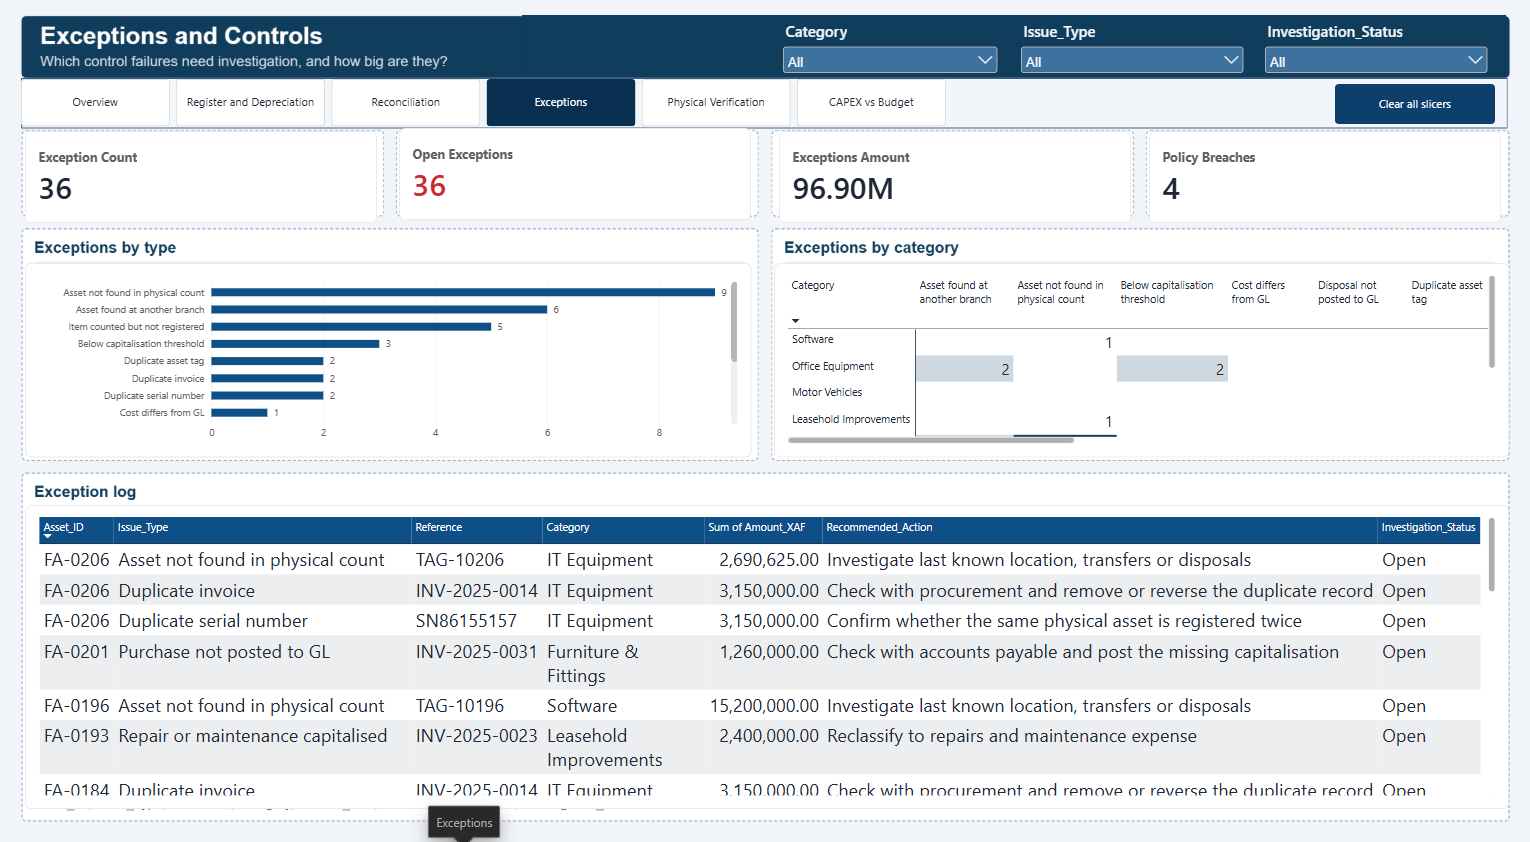

The page's visual inventory and layout, read from the dashboard file:
{"tool":"powerbi","page":{"name":"Exceptions","canvas":[1920,1080],"ordinal":3},"visuals":[{"type":"shape","box":[656.7,20,1230,76.7],"z":0},{"type":"shape","box":[30,98.3,1858.3,63],"z":1000},{"type":"cardVisual","fields":{"Data":["DAX Measures.Exception Count"]},"box":[35,165,440,115],"z":2000},{"type":"cardVisual","fields":{"Data":["DAX Measures.Open Exceptions"]},"box":[502.9,161.4,440,115],"z":3000},{"type":"cardVisual","fields":{"Data":["Sum(qExceptions_All.Amount_XAF)"]},"box":[977.5,165,440,115],"z":4000},{"type":"cardVisual","fields":{"Data":["DAX Measures.Policy Breaches"]},"box":[1440,165,440,115],"z":5000},{"type":"barChart","fields":{"Category":["qExceptions_All.Issue_Type"],"Y":["DAX Measures.Exception Count"]},"box":[35,330,907.5,242.5],"z":6000},{"type":"pivotTable","fields":{"Columns":["qExceptions_All.Issue_Type"],"Rows":["tblPolicy.Category"],"Values":["DAX Measures.Exception Count"]},"box":[971.4,330,918.6,242.9],"z":7000},{"type":"tableEx","fields":{"Values":["qExceptions_All.Asset_ID","qExceptions_All.Issue_Type","qExceptions_All.Reference","qExceptions_All.Category","Sum(qExceptions_All.Amount_XAF)","qExceptions_All.Recommended_Action","qExceptions_All.Investigation_Status"]},"box":[35,632.5,1855,380],"z":8000},{"type":"slicer","fields":{"Values":["qExceptions_All.Category"]},"box":[978,27,277.5,65],"z":9000},{"type":"slicer","fields":{"Values":["qExceptions_All.Issue_Type"]},"box":[1275,27,287.6,64.9],"z":10000},{"type":"slicer","fields":{"Values":["qExceptions_All.Investigation_Status"]},"box":[1580,27,287.6,64.9],"z":11000},{"type":"pageNavigator","box":[30,100,1158,59],"z":12000},{"type":"shape","box":[30,1036,1856,30],"z":13000},{"type":"actionButton","box":[1672,106,200,50],"z":14000}]}

Visuals, with their boxes on the page's 1920x1080 design canvas (x1, y1, x2, y2). These are canvas units, not pixel positions in the 1530x842 screenshot, which may show the page scaled, cropped or inside an application window:
shape: (657, 20, 1887, 97)
shape: (30, 98, 1888, 161)
cardVisual - DAX Measures.Exception Count: (35, 165, 475, 280)
cardVisual - DAX Measures.Open Exceptions: (503, 161, 943, 276)
cardVisual - Sum(qExceptions_All.Amount_XAF): (978, 165, 1418, 280)
cardVisual - DAX Measures.Policy Breaches: (1440, 165, 1880, 280)
barChart - qExceptions_All.Issue_Type x DAX Measures.Exception Count: (35, 330, 942, 572)
pivotTable - qExceptions_All.Issue_Type x tblPolicy.Category: (971, 330, 1890, 573)
tableEx - qExceptions_All.Asset_ID x qExceptions_All.Issue_Type: (35, 632, 1890, 1012)
slicer - qExceptions_All.Category: (978, 27, 1256, 92)
slicer - qExceptions_All.Issue_Type: (1275, 27, 1563, 92)
slicer - qExceptions_All.Investigation_Status: (1580, 27, 1868, 92)
pageNavigator: (30, 100, 1188, 159)
shape: (30, 1036, 1886, 1066)
actionButton: (1672, 106, 1872, 156)
